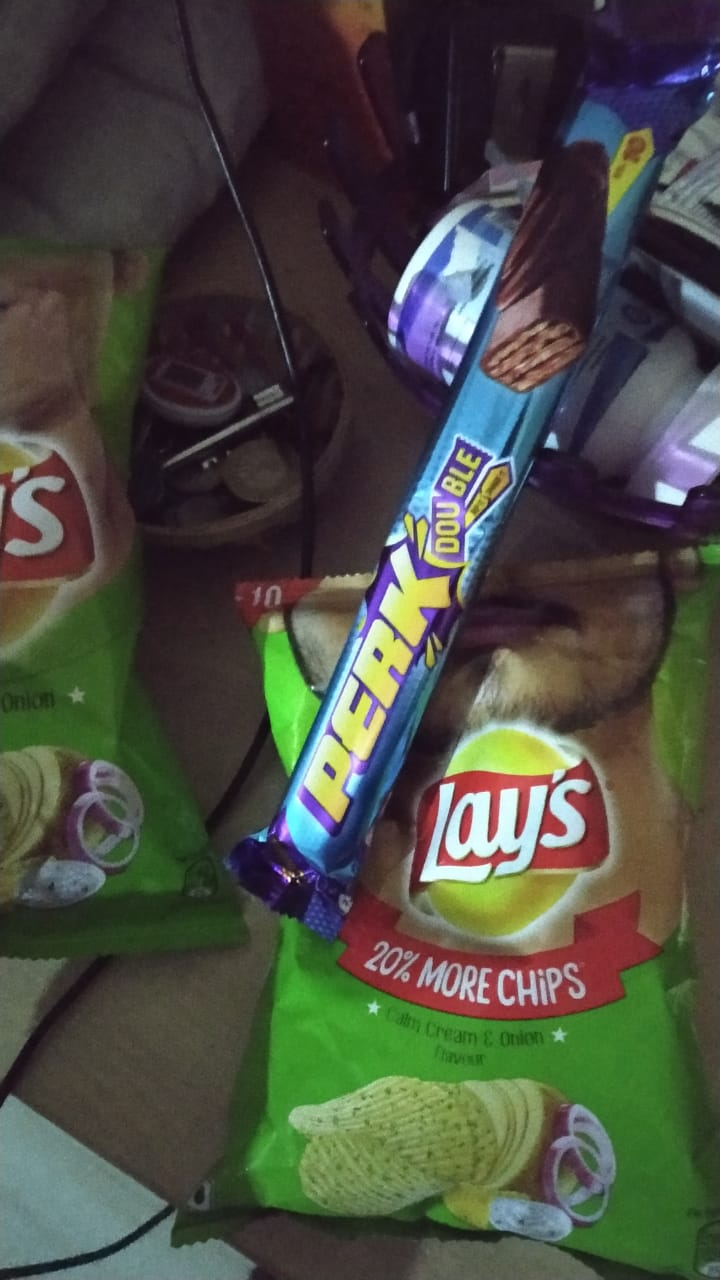lays chips: (235, 535, 720, 1263)
perk: (237, 76, 527, 902)
